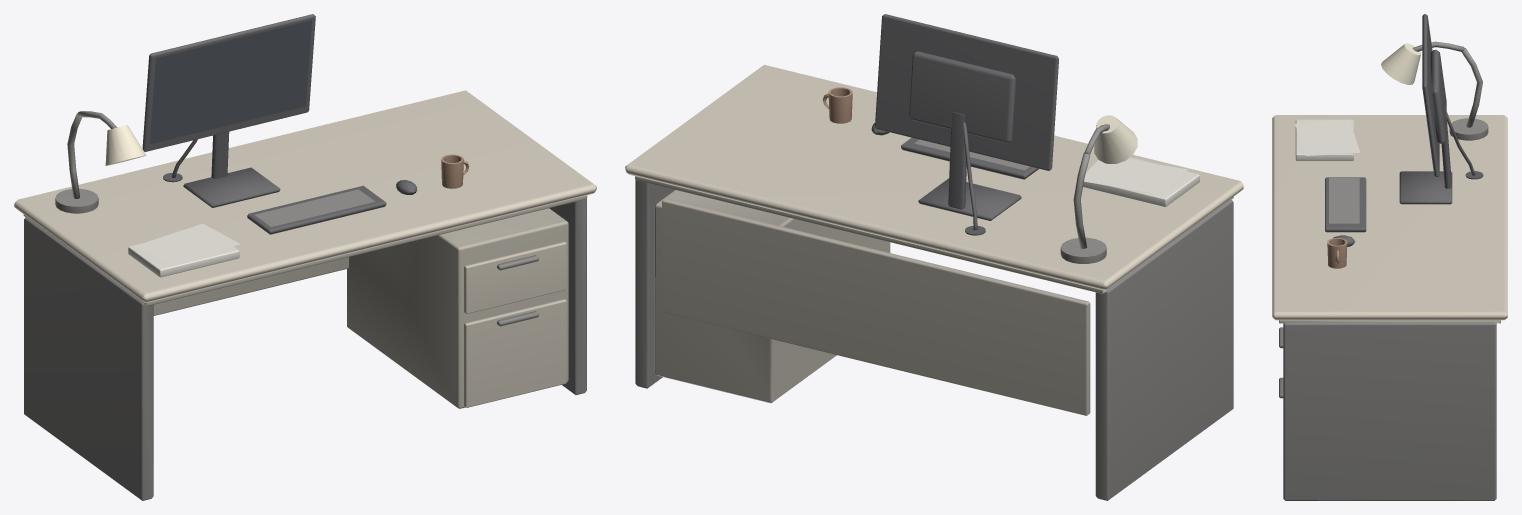
The model's file is desk.glb.
3 renders of one model, left to right at view 1: azimuth 30°, elevation 25°; view 2: azimuth 150°, elevation 25°; view 3: azimuth 270°, elevation 25°, orthographic. The views are drawn at different scales.
Parts seen in each view (by area): view 1: furn_desk; view 2: furn_desk; view 3: furn_desk.
Boxes of the visible parts, x1,y1,x2,y2 form: furn_desk: [14, 14, 596, 500]; furn_desk: [625, 14, 1243, 500]; furn_desk: [1272, 14, 1507, 500].
Size of the model in its own units: 1.7 by 1.32 by 0.85.
